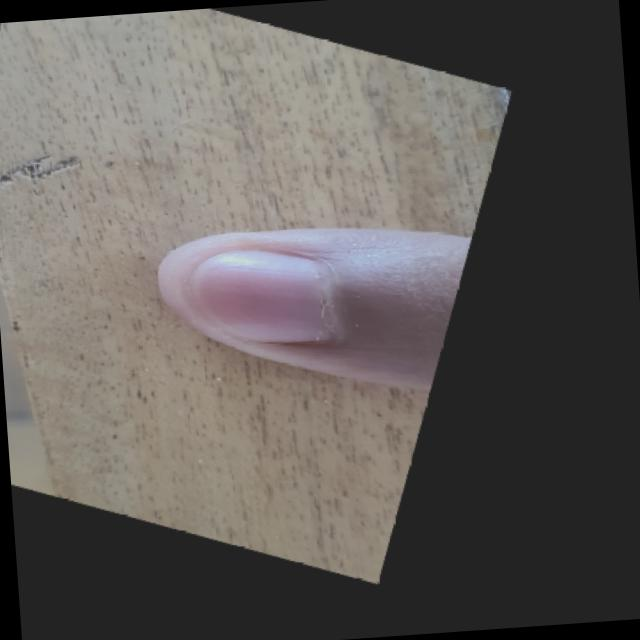Nail: (190, 246, 333, 341)
